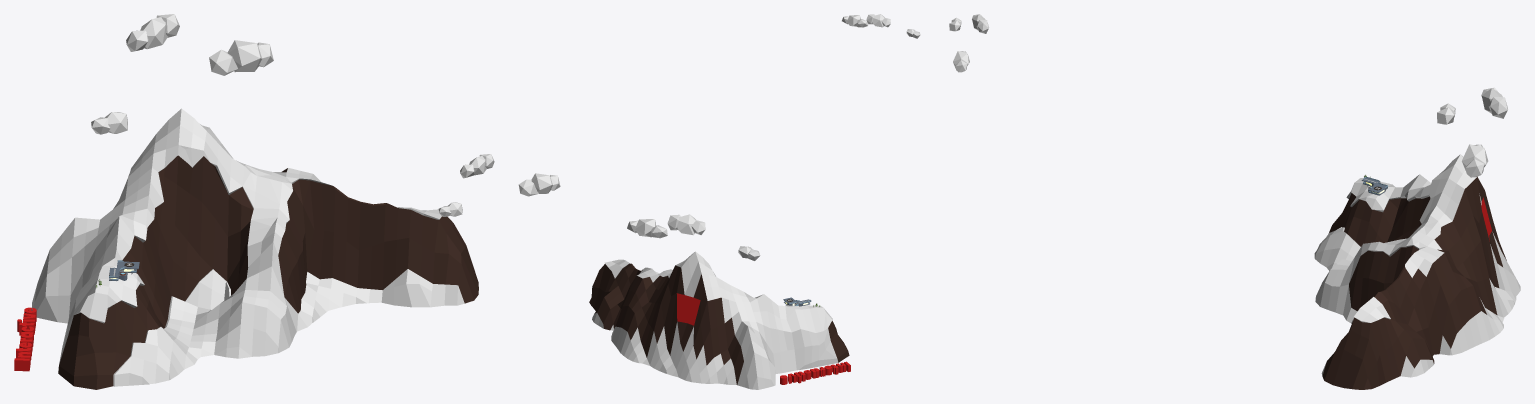
3 renders of one model, left to right at view 1: azimuth 30°, elevation 25°; view 2: azimuth 150°, elevation 25°; view 3: azimuth 270°, elevation 25°, orthographic. The views are drawn at different scales.
Parts seen in each view (by area): view 1: Mountain, clouds 1, clouds 2, interactive, clouds 1.001, couds 3, clouds 2.001; view 2: Mountain, interactive, clouds 2, clouds 1; view 3: Mountain, clouds 1, clouds 2.
Boxes of the visible parts, left/top/right/bottom form: Mountain: left=31, top=108, right=478, bottom=389; clouds 1: left=209, top=40, right=273, bottom=75; clouds 2: left=126, top=14, right=179, bottom=51; interactive: left=14, top=307, right=36, bottom=371; clouds 1.001: left=518, top=173, right=560, bottom=196; couds 3: left=91, top=112, right=127, bottom=134; clouds 2.001: left=460, top=154, right=494, bottom=178; Mountain: left=589, top=251, right=849, bottom=389; interactive: left=780, top=361, right=850, bottom=384; clouds 2: left=667, top=214, right=705, bottom=235; clouds 1: left=627, top=219, right=667, bottom=238; Mountain: left=1314, top=154, right=1520, bottom=389; clouds 1: left=1462, top=144, right=1488, bottom=177; clouds 2: left=1481, top=87, right=1507, bottom=118.
Size of the model in its own units: 99.17 by 75.53 by 138.
19 materials, 2 textured.
